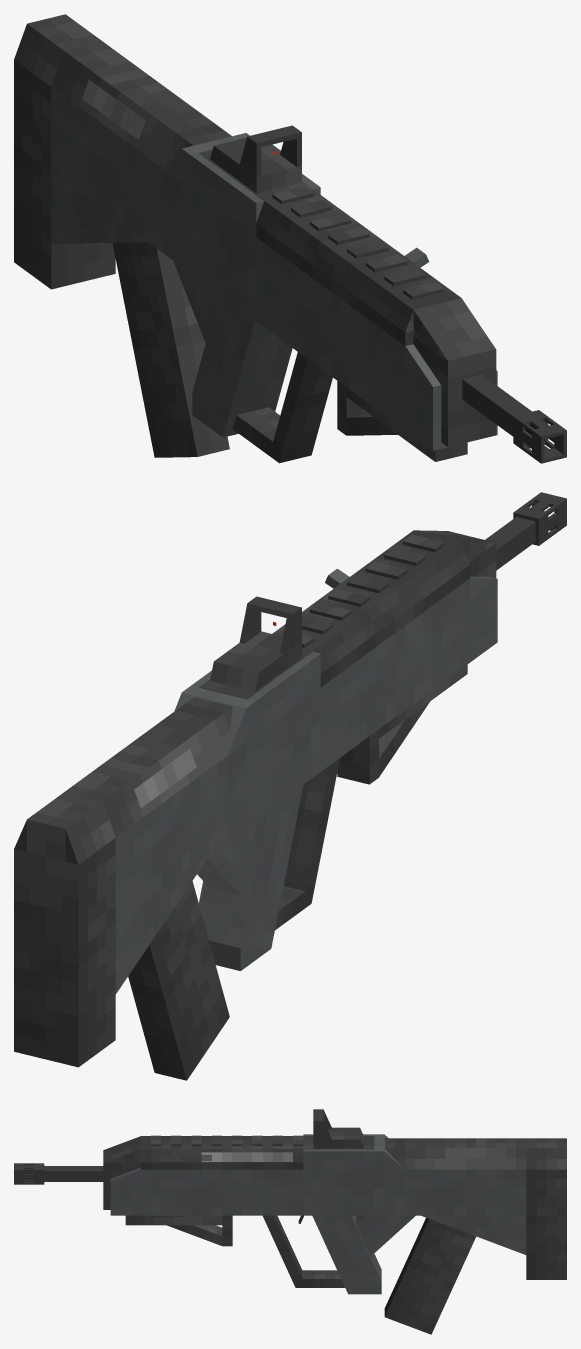
The model's file is burst_rifle.gltf.
The picture shows the model from 3 angles, top to bottom: view 1: azimuth 30°, elevation 25°; view 2: azimuth 150°, elevation 25°; view 3: azimuth 270°, elevation 25°; orthographic projection. The views are drawn at different scales.
Visible parts, largest first — view 1: magazine, main_body_long, stock_long, main_body_base, stock_main, handle_1, handle_guard (×2), stock_long_top, barrel (×4), main_rail_slant_2, barrel_body, stock_long_top_2 (+12 smaller); view 2: stock_main, main_body_long, magazine, stock_long, main_body_base, handle_1, stock_long_top, barrel (×4), handle_guard (×2), main_rail_slant_2, stock_long_top_2, stock_bottom_slant (+11 smaller); view 3: main_body_long, stock_long, magazine, main_body_base, stock_main, handle_1, barrel (×4), stock_long_top_1, stock_bottom_slant, handle_guard (×2), stock_long_top, main_rail_slant_1 (+11 smaller).
Boxes of the visible parts, x1,y1,x2,y2 form: magazine: (112,242,229,457); main_body_long: (256,237,405,429); stock_long: (51,87,181,266); main_body_base: (181,133,320,320); stock_main: (14,60,115,289); handle_1: (192,294,292,437); handle_guard (×2): (233,352,332,463); stock_long_top: (65,41,231,145); barrel (×4): (337,374,535,461); main_rail_slant_2: (256,201,413,332); barrel_body: (413,336,496,446); stock_long_top_2: (51,51,192,170); stock_main: (14,838,115,1067); main_body_long: (320,578,469,771); magazine: (128,881,229,1080); stock_long: (115,742,246,921); main_body_base: (182,651,320,825); handle_1: (199,785,303,948); stock_long_top: (64,697,232,801); barrel (×4): (337,517,535,784); handle_guard (×2): (275,758,339,929); main_rail_slant_2: (312,542,469,673); stock_long_top_2: (103,707,245,837); stock_bottom_slant: (115,852,211,994); main_body_long: (141,1169,303,1215); stock_long: (384,1169,526,1215); magazine: (384,1217,476,1334); main_body_base: (303,1134,384,1215); stock_main: (526,1169,566,1279); handle_1: (312,1215,381,1294); barrel (×4): (44,1166,232,1246); stock_long_top_1: (385,1148,526,1169); stock_bottom_slant: (421,1215,526,1254); handle_guard (×2): (263,1215,344,1287); stock_long_top: (385,1138,526,1148); main_rail_slant_1: (141,1149,303,1162).
Size of the model in its own units: 0.1547 by 0.7318 by 1.7.
5 materials, 5 textured.
